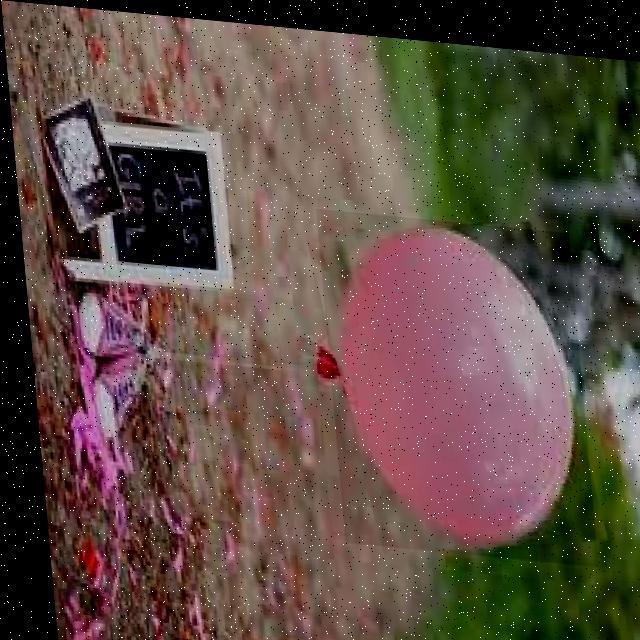balloon: (312, 203, 588, 556)
